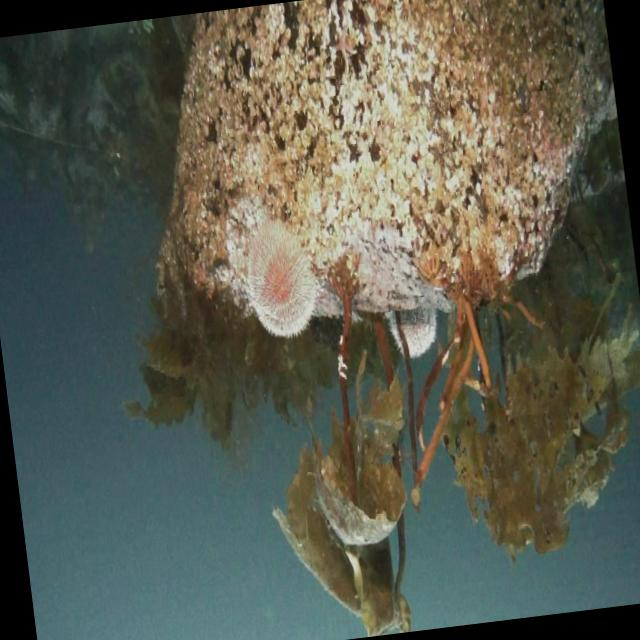Deniz Kestanesi: (238, 214, 322, 342), (386, 304, 444, 363)
